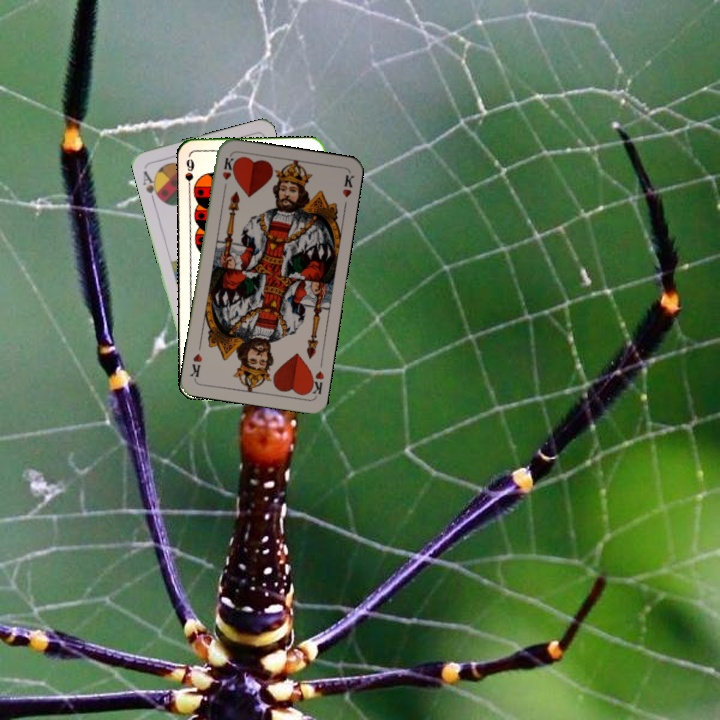HK: (218, 153, 237, 193), (304, 367, 327, 398)
S9: (181, 153, 201, 193)
SA: (139, 167, 164, 204)
